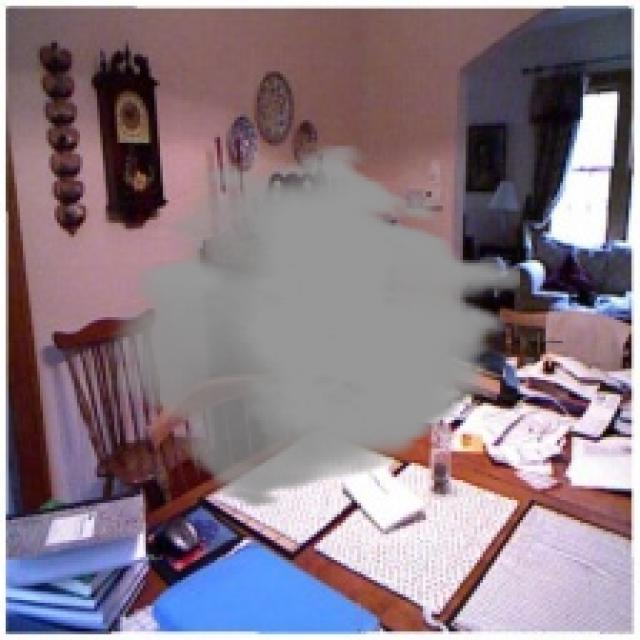smoke: (109, 143, 520, 508)
